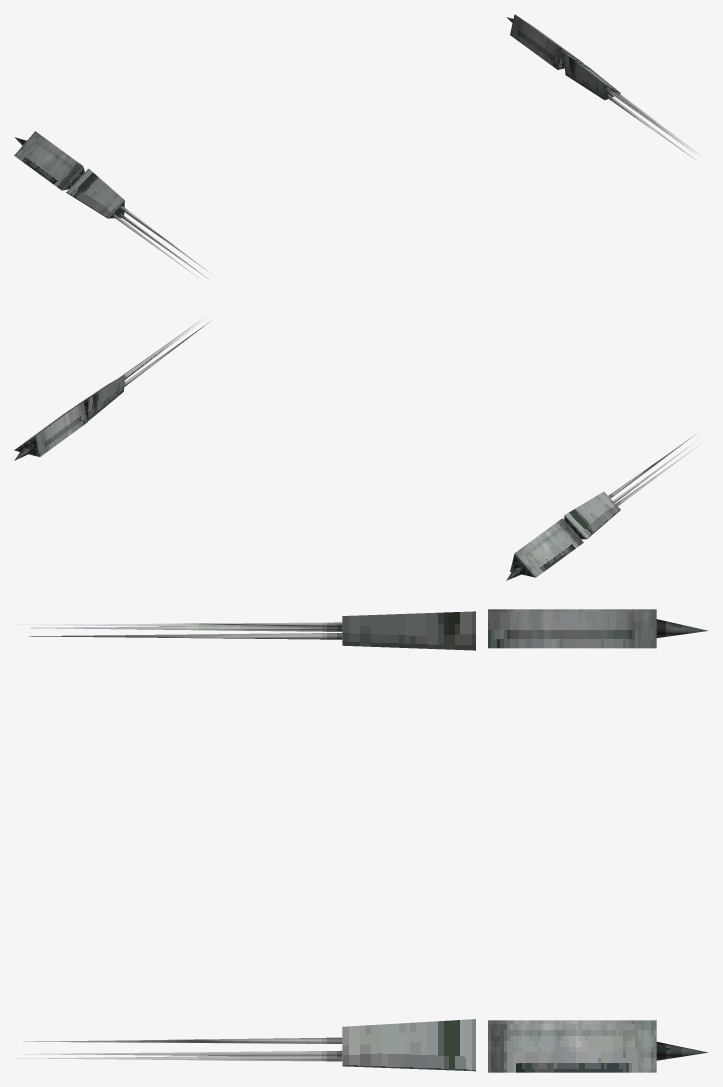
The model's file is hutt_fighter_medium_weapon1_s04_l3.fbx.
The picture shows the model from 3 angles, top to bottom: view 1: azimuth 30°, elevation 25°; view 2: azimuth 150°, elevation 25°; view 3: azimuth 270°, elevation 25°; orthographic projection. The views are drawn at different scales.
Parts seen in each view (by area): view 1: mesh_node; view 2: mesh_node; view 3: mesh_node.
Part boxes in pixels (x1,y1,x2,y2): mesh_node: [14, 14, 705, 281]; mesh_node: [14, 314, 704, 580]; mesh_node: [15, 609, 708, 1072].
Bounding box in the file's own units: 13.79 × 0.583 × 9.05.
1 material, 1 textured.
